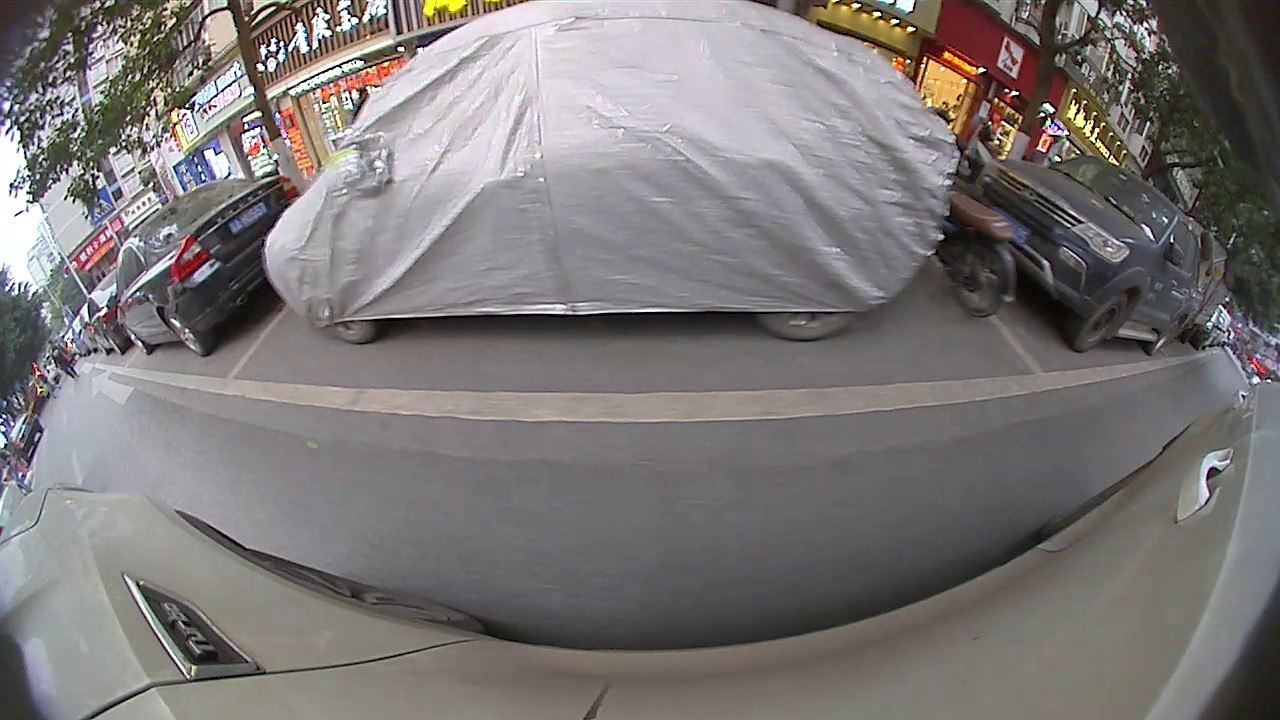car: (260, 1, 960, 349), (974, 152, 1225, 360), (111, 174, 303, 362)
front: (1070, 286, 1132, 351)
rear: (949, 228, 1014, 321), (157, 311, 212, 355)
rider: (933, 188, 1021, 324)
